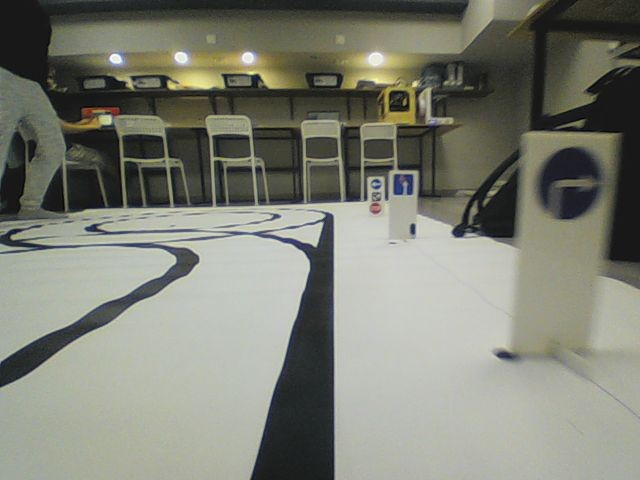Right: (538, 144, 602, 221)
priority_movement: (392, 173, 413, 197)
